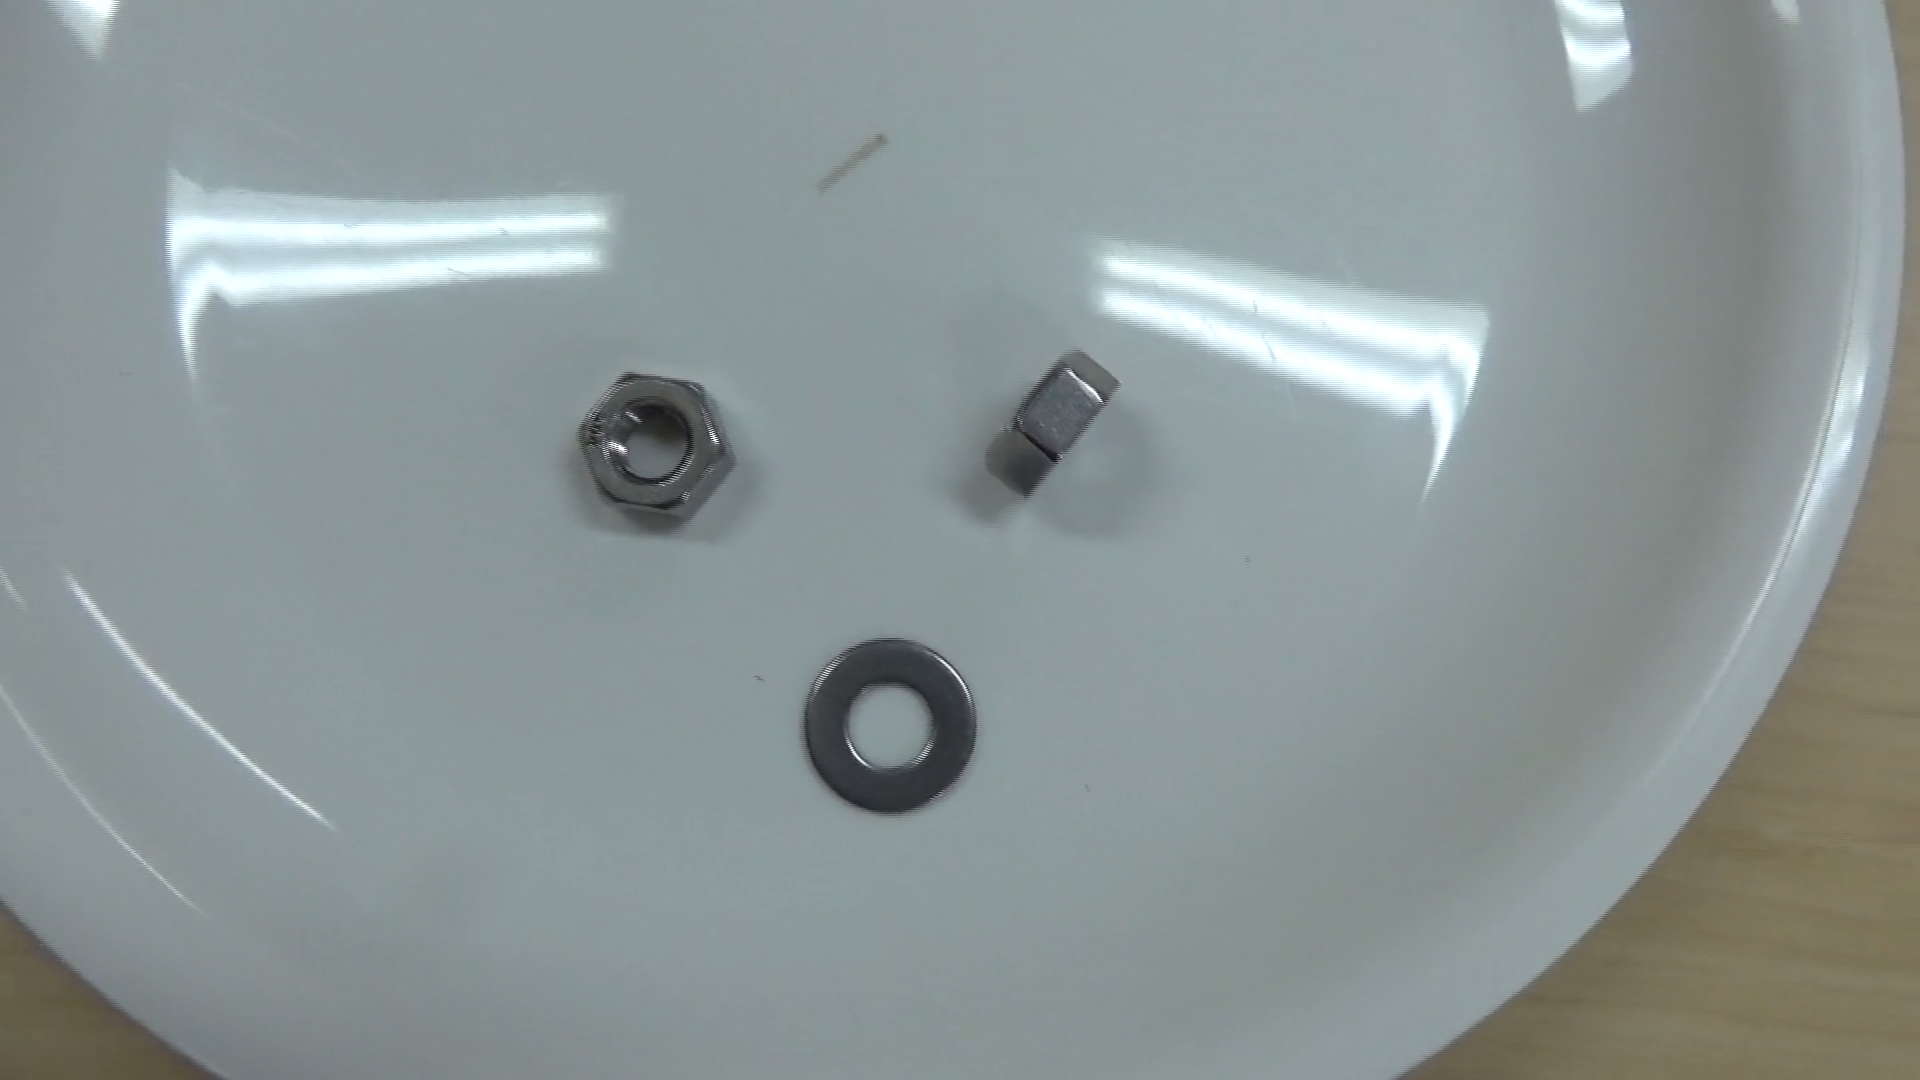nut: (564, 347, 752, 531), (969, 327, 1137, 514)
washer: (786, 630, 992, 831)
